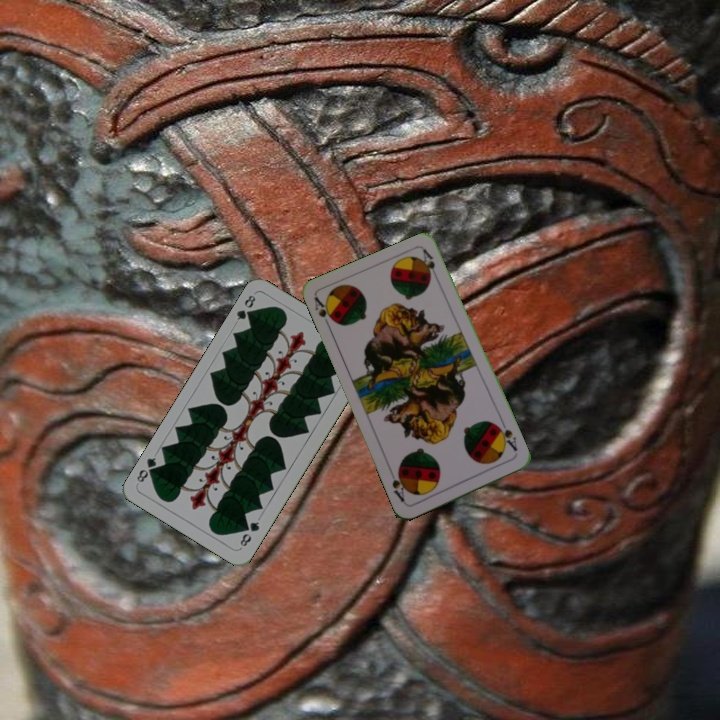G8: (232, 291, 258, 323), (236, 518, 262, 549)
SA: (310, 293, 339, 332), (492, 419, 520, 454)
